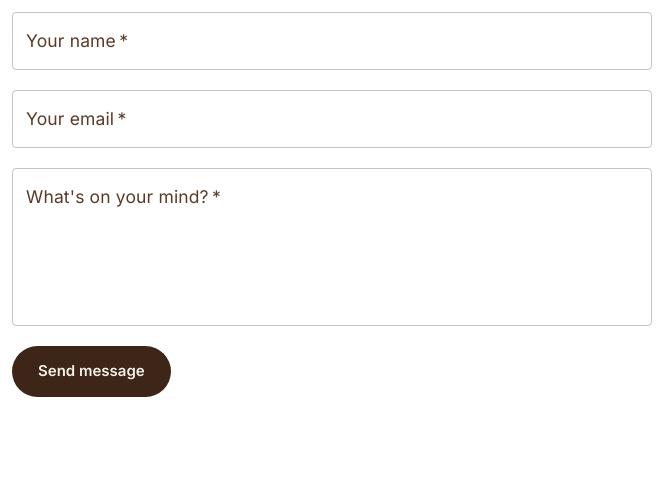
Scenario: ContactForm › shows a success message after submitting valid data
Type "Recruiter" into the field labelled "Your name *". click: x=332, y=41
box: [12, 12, 652, 70]
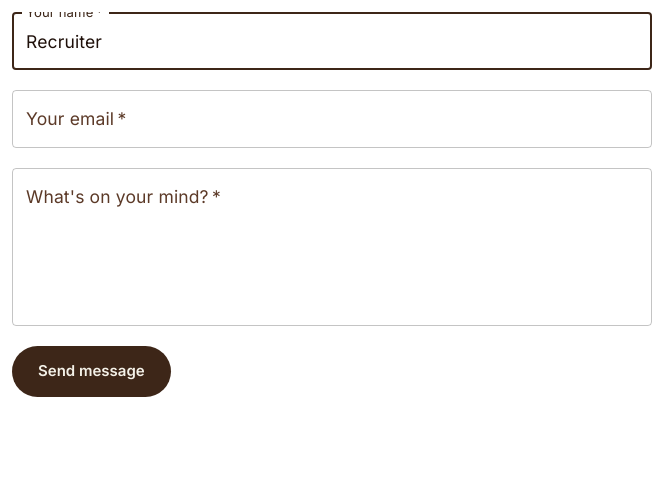
Type "recruiter@example.com" into the field labelled "Your email *". click: x=332, y=119
box: [12, 90, 652, 148]
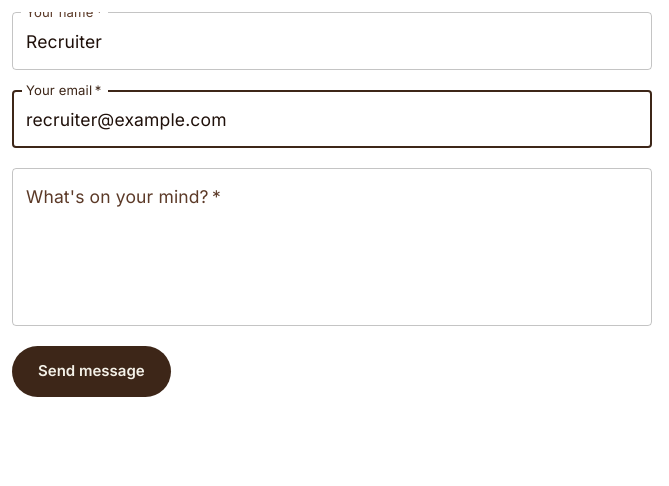
Type "We have an opportunity that fits your background." into the text box labelled "What's on your mind? *". click: x=332, y=247
box: [26, 185, 638, 310]
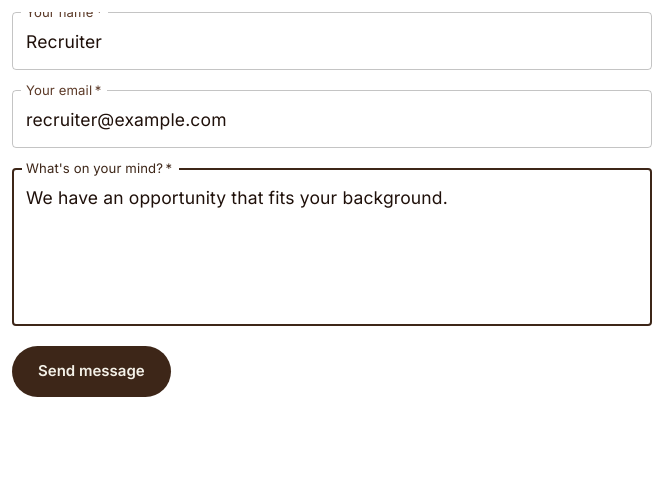
Click the button "Send message". click: x=91, y=371
box: [12, 346, 171, 397]
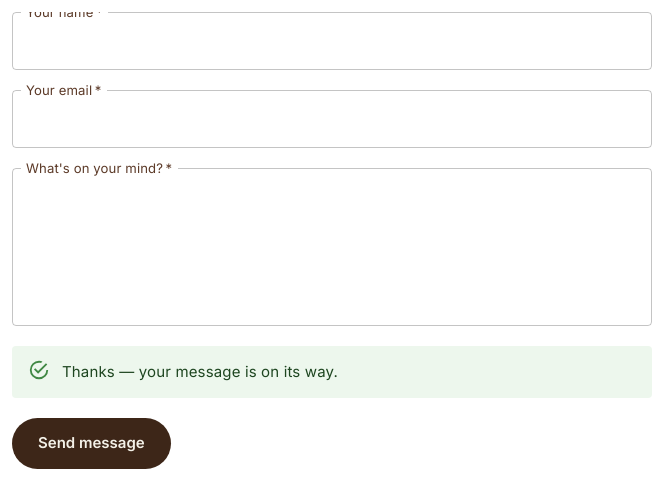
Now the text "Thanks — your message is on its way." is shown, box [62, 362, 338, 381]
